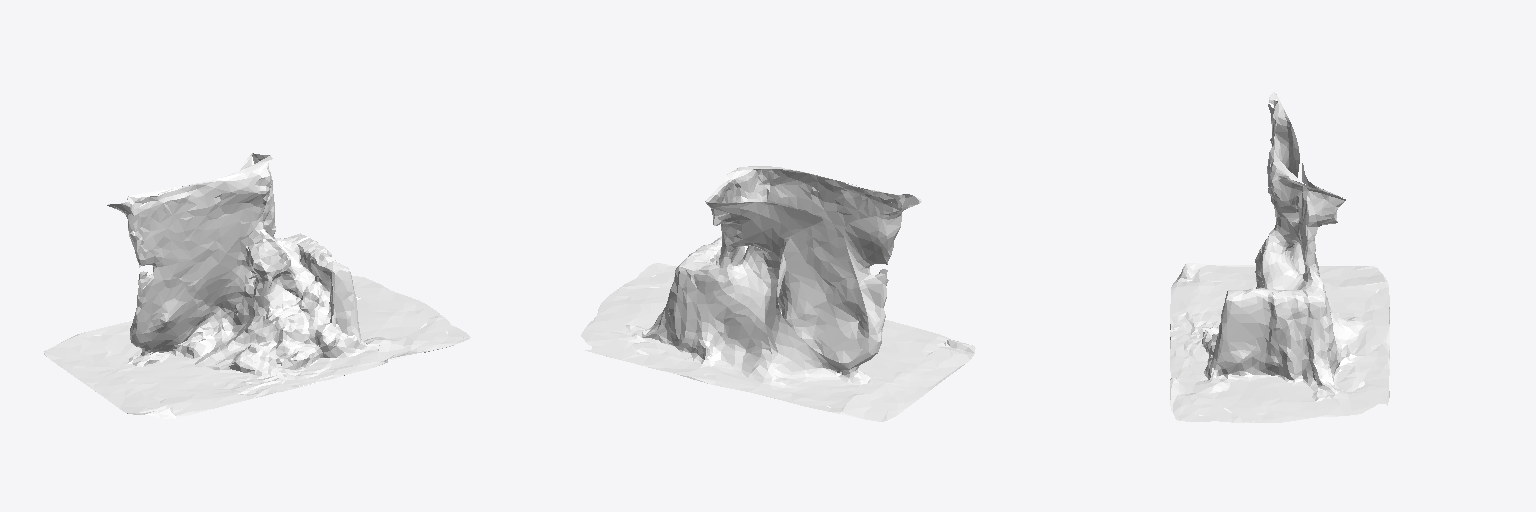
Rendered from plastic-o.obj.
3 views of the same model, side by side, from view 1: azimuth 30°, elevation 25°; view 2: azimuth 150°, elevation 25°; view 3: azimuth 270°, elevation 25° (orthographic).
Parts seen in each view (by area): view 1: Default; view 2: Default; view 3: Default.
Boxes of the visible parts, <box> form: Default: <box>44,153,470,418</box>; Default: <box>581,166,975,421</box>; Default: <box>1170,92,1389,422</box>.
Size of the model in its own units: 281 by 147 by 160.